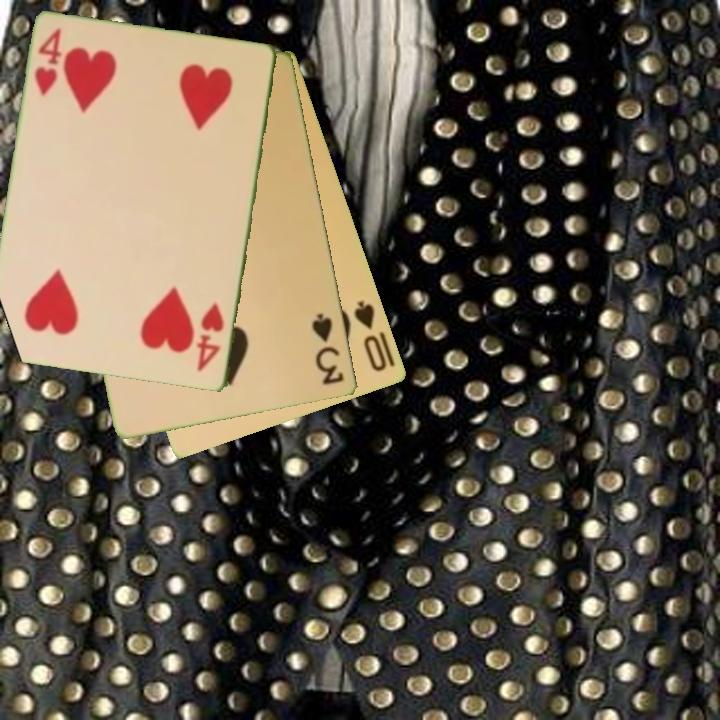10s: (351, 297, 390, 375)
3s: (308, 310, 348, 388)
4h: (31, 25, 66, 100), (194, 300, 227, 375)
